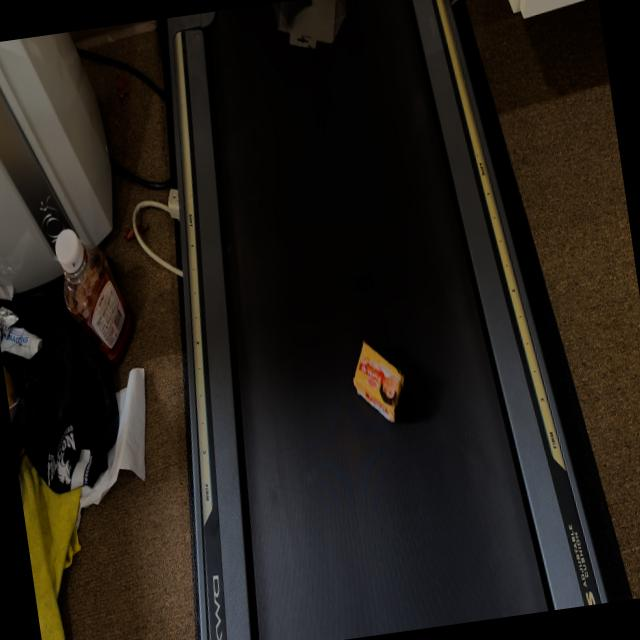Trash: (329, 308, 421, 436)
